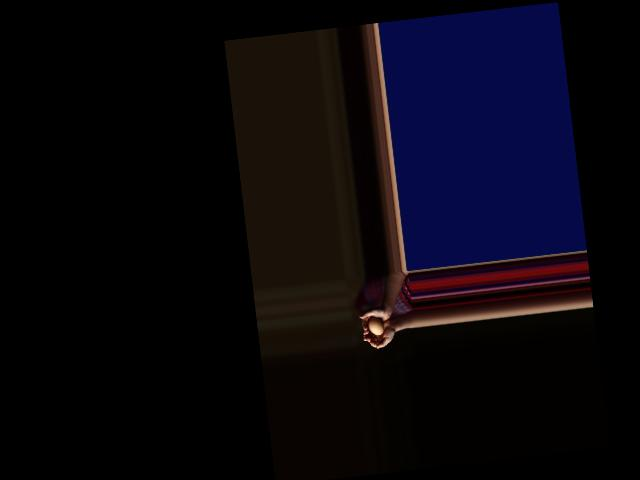egg: (366, 316, 384, 336)
